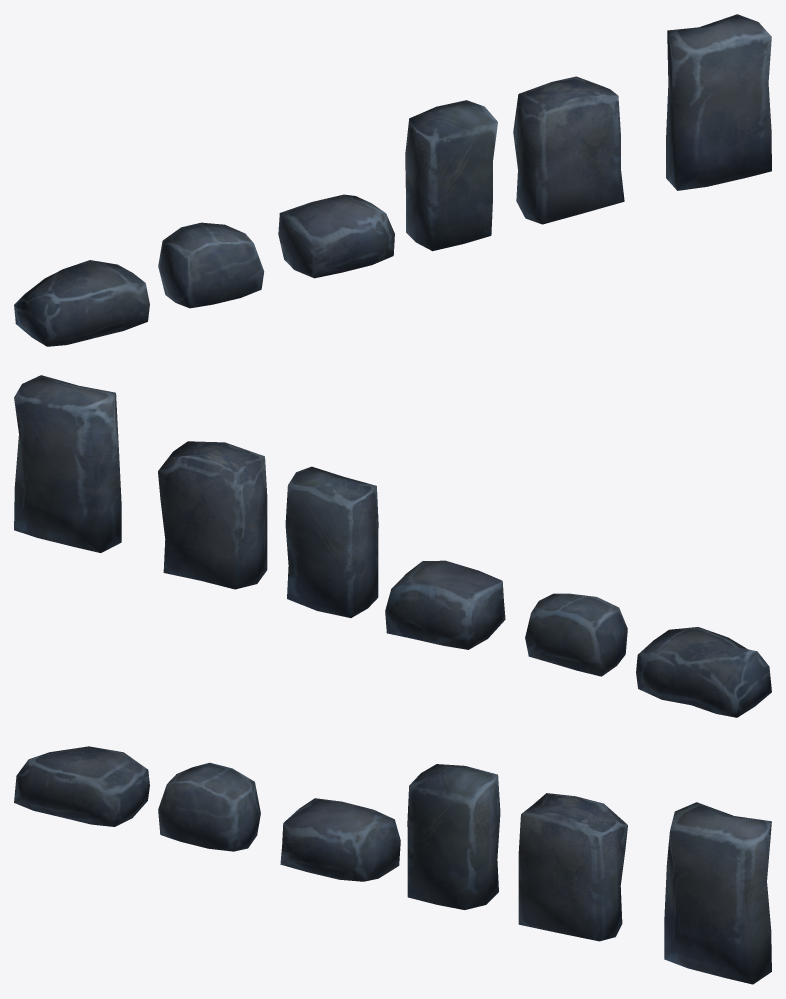
File: CubeStone.fbx
3 views of the same model, one above another, from view 1: azimuth 30°, elevation 25°; view 2: azimuth 150°, elevation 25°; view 3: azimuth 330°, elevation 25° (orthographic).
Parts seen in each view (by area): view 1: CubeStone5_low, CubeStone4_low, CubeStone3_low, CubeStone0_low, CubeStone2_low, CubeStone1_low; view 2: CubeStone5_low, CubeStone4_low, CubeStone3_low, CubeStone0_low, CubeStone2_low, CubeStone1_low; view 3: CubeStone5_low, CubeStone4_low, CubeStone3_low, CubeStone0_low, CubeStone2_low, CubeStone1_low.
Part boxes in pixels (box(x1,y1,x2,y2)): CubeStone5_low: box(666, 14, 771, 190); CubeStone4_low: box(513, 76, 624, 224); CubeStone3_low: box(405, 100, 497, 251); CubeStone0_low: box(14, 260, 149, 346); CubeStone2_low: box(278, 194, 394, 278); CubeStone1_low: box(158, 222, 264, 308); CubeStone5_low: box(14, 375, 121, 552); CubeStone4_low: box(158, 441, 267, 589); CubeStone3_low: box(285, 466, 378, 617); CubeStone0_low: box(636, 627, 771, 717); CubeStone2_low: box(385, 560, 505, 649); CubeStone1_low: box(525, 593, 627, 676); CubeStone5_low: box(664, 802, 771, 984); CubeStone4_low: box(518, 793, 627, 941); CubeStone3_low: box(407, 764, 500, 909); CubeStone0_low: box(14, 746, 149, 826); CubeStone2_low: box(280, 798, 400, 881); CubeStone1_low: box(158, 762, 260, 851).
Bounding box in the file's own units: 686 × 131 × 67.14.
